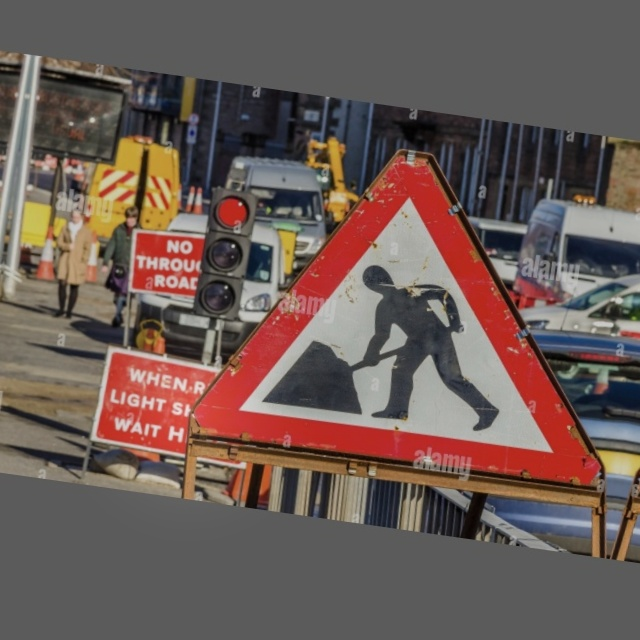Men_at_Work: (213, 140, 611, 493)
